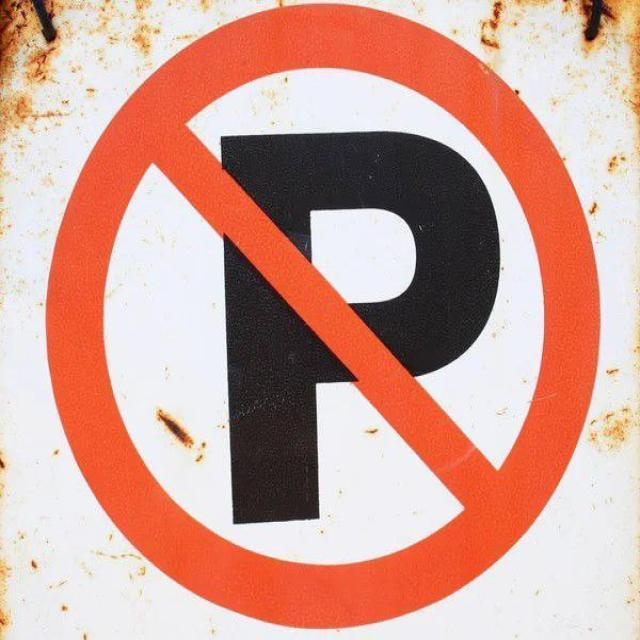no parking: (44, 10, 602, 627)
